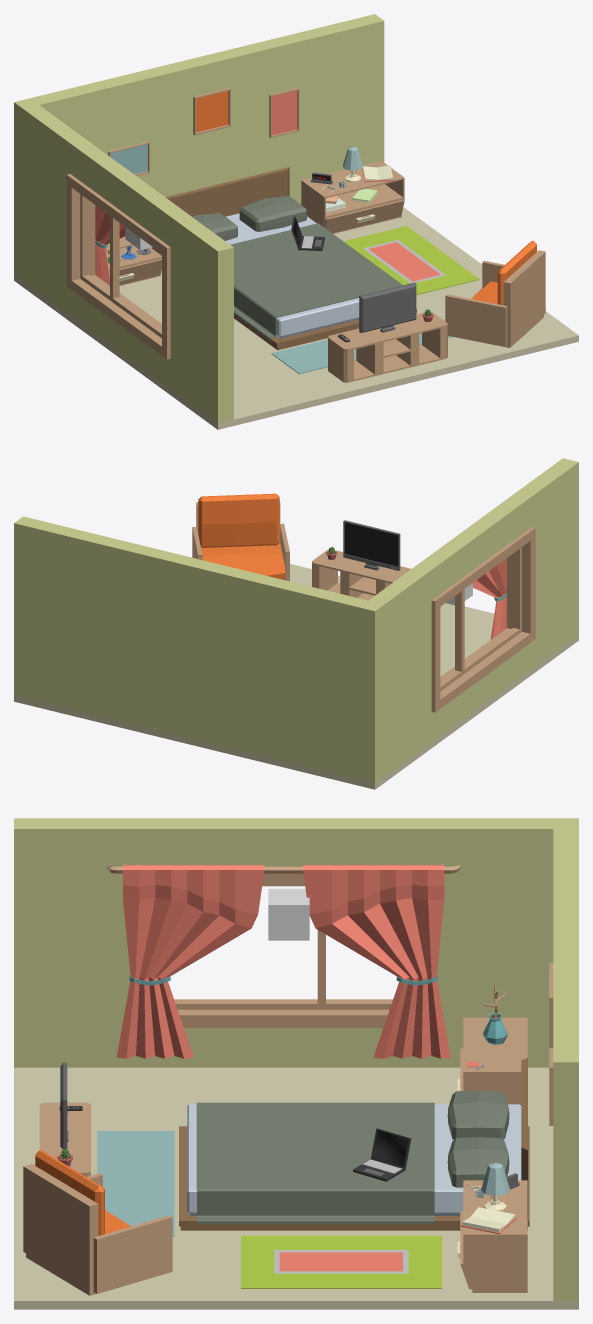
The model's file is room_new.gltf.
The picture shows the model from 3 angles, top to bottom: view 1: azimuth 30°, elevation 25°; view 2: azimuth 150°, elevation 25°; view 3: azimuth 270°, elevation 25°; orthographic projection. The views are drawn at different scales.
Visible parts, largest first — view 1: LowPolyRoom; view 2: LowPolyRoom; view 3: LowPolyRoom, Cube.
Boxes of the visible parts, x1=… form: LowPolyRoom: x1=14, y1=14, x2=578, y2=429; LowPolyRoom: x1=14, y1=458, x2=578, y2=789; LowPolyRoom: x1=14, y1=818, x2=578, y2=1309; Cube: x1=268, y1=888, x2=309, y2=940.
Size of the model in its own units: 9.09 by 4.25 by 8.8.
1 material, 1 textured.
